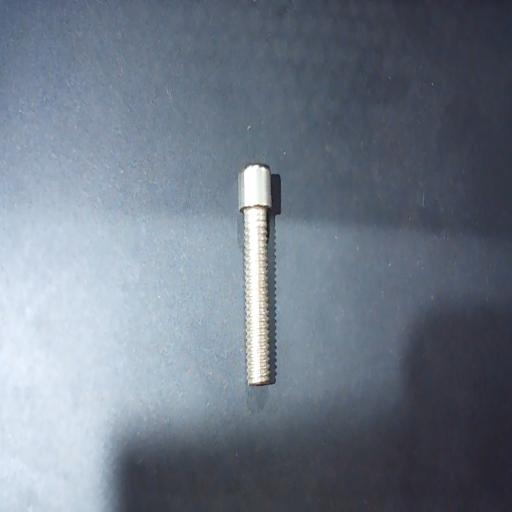screw: (238, 164, 272, 387)
